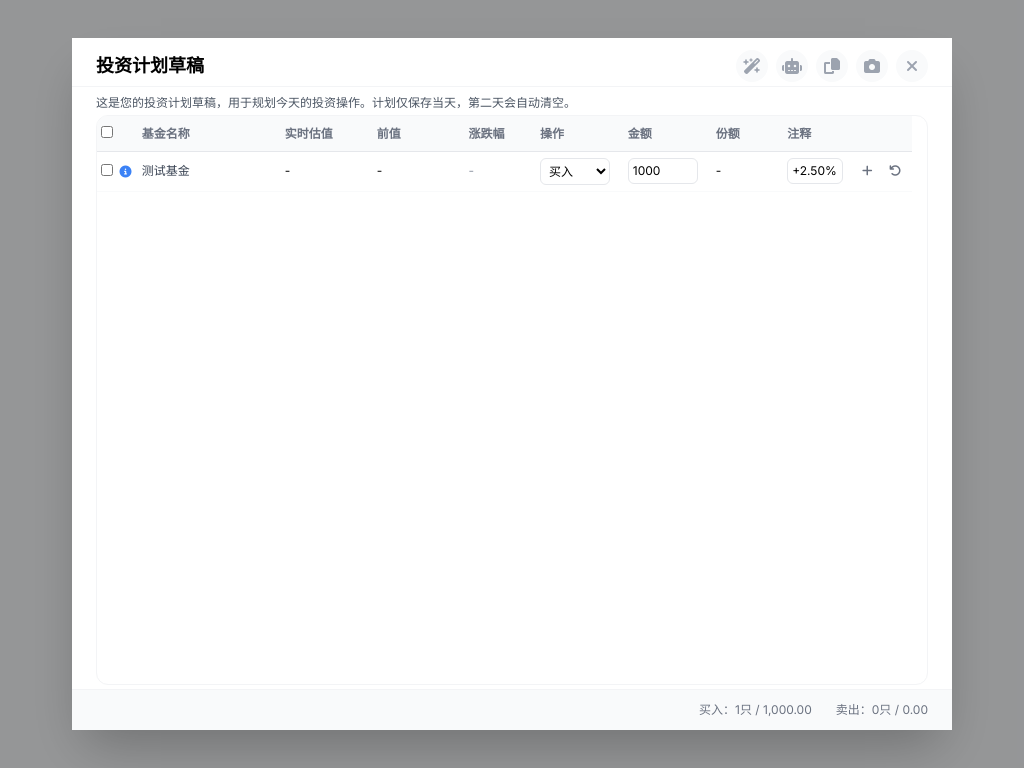
Scenario: InvestmentDraftModal AI 建议持久化 › 重置功能清除 AI 建议信息
This screenshot has width=1024, height=768.
Expected: the icon with class "fa-info-circle" is shown, [120,164,132,180]
Click the button titled "重置": (895, 171) [883,159,907,183]
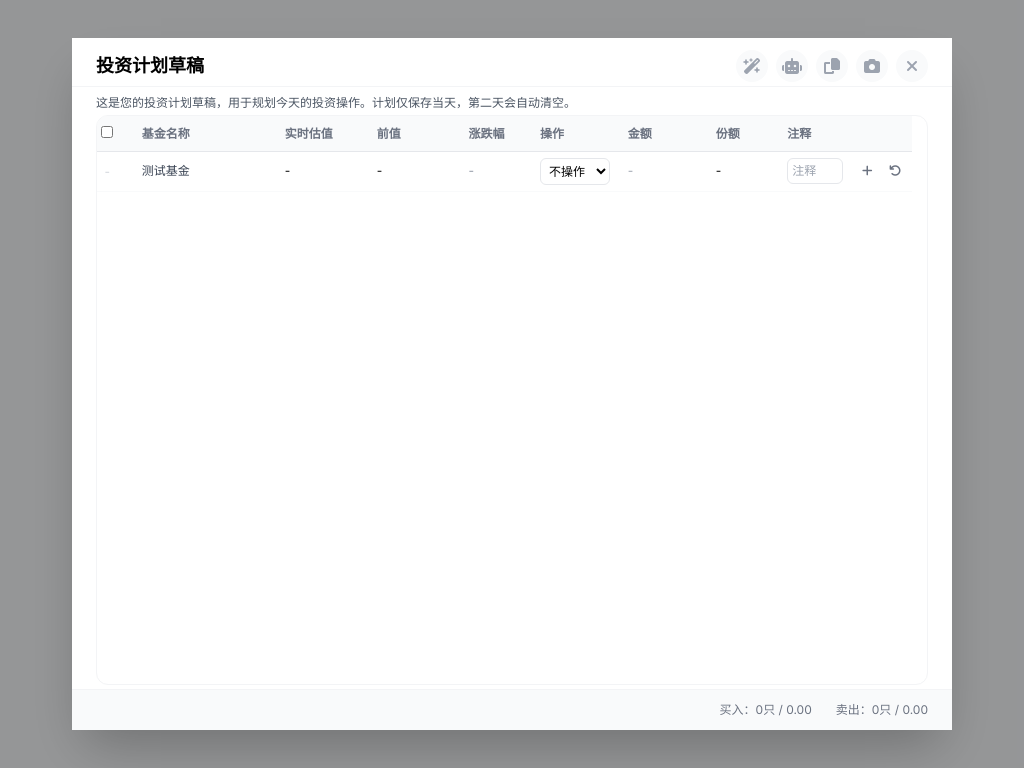
Expected: the icon with class "fa-info-circle" is gone
